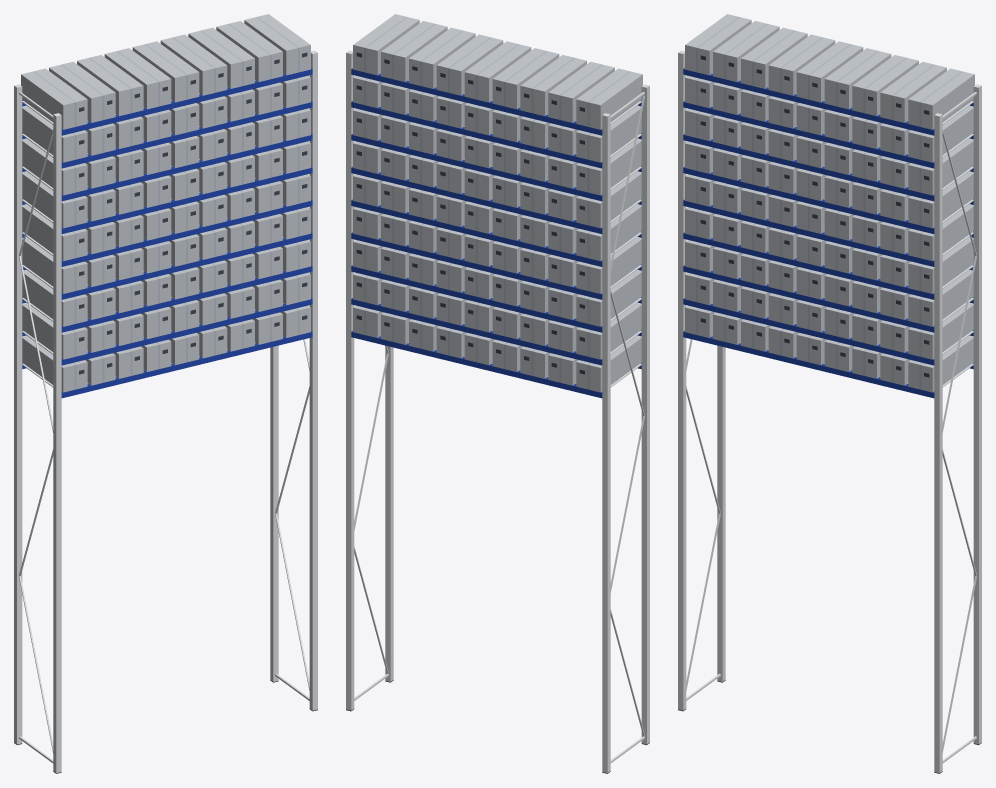
The model's file is SM_MPR_CADRack_F20_W144_Passage_LOD1.fbx.
3 views of the same model, side by side, from view 1: azimuth 30°, elevation 25°; view 2: azimuth 150°, elevation 25°; view 3: azimuth 330°, elevation 25° (orthographic).
Visible parts, largest first — view 1: SM_MPR_CADRack_F20_W144_Passage_LOD1; view 2: SM_MPR_CADRack_F20_W144_Passage_LOD1; view 3: SM_MPR_CADRack_F20_W144_Passage_LOD1.
Part boxes in pixels (box(x1,y1,x2,y2)): SM_MPR_CADRack_F20_W144_Passage_LOD1: box(14, 14, 317, 773); SM_MPR_CADRack_F20_W144_Passage_LOD1: box(346, 14, 649, 773); SM_MPR_CADRack_F20_W144_Passage_LOD1: box(678, 14, 981, 773).
Size of the model in its own units: 381 by 107 by 929.
